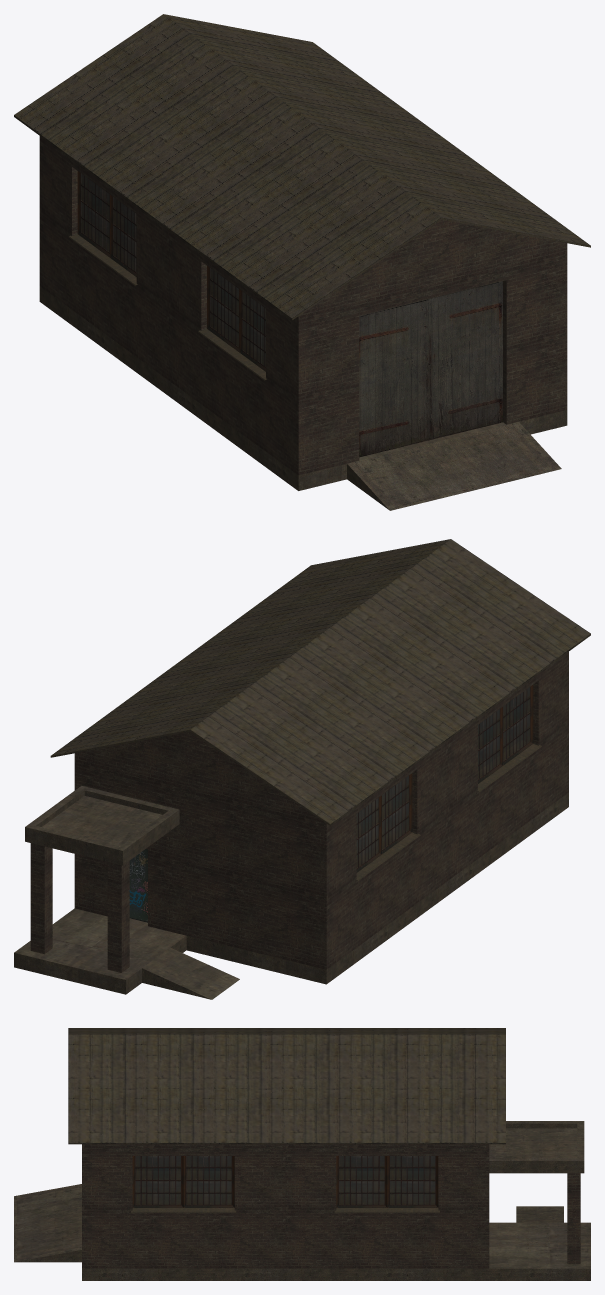
File: warehouse_mx_2.dae
3 renders of one model, top to bottom at view 1: azimuth 30°, elevation 25°; view 2: azimuth 150°, elevation 25°; view 3: azimuth 270°, elevation 25°, orthographic. The views are drawn at different scales.
Parts seen in each view (by area): view 1: warehouse_mx_2, garage_door_hr_3_piece_2, garage_door_hr_3_piece_1; view 2: warehouse_mx_2, door_hr_9; view 3: warehouse_mx_2.
Boxes of the visible parts, x1,y1,x2,y2 form: warehouse_mx_2: (14, 14, 590, 510); garage_door_hr_3_piece_2: (429, 281, 502, 439); garage_door_hr_3_piece_1: (359, 299, 429, 457); warehouse_mx_2: (14, 539, 590, 999); door_hr_9: (129, 849, 147, 922); warehouse_mx_2: (14, 1028, 590, 1280).
Size of the model in its own units: 8 by 17 by 6.32.
10 materials, 10 textured.
